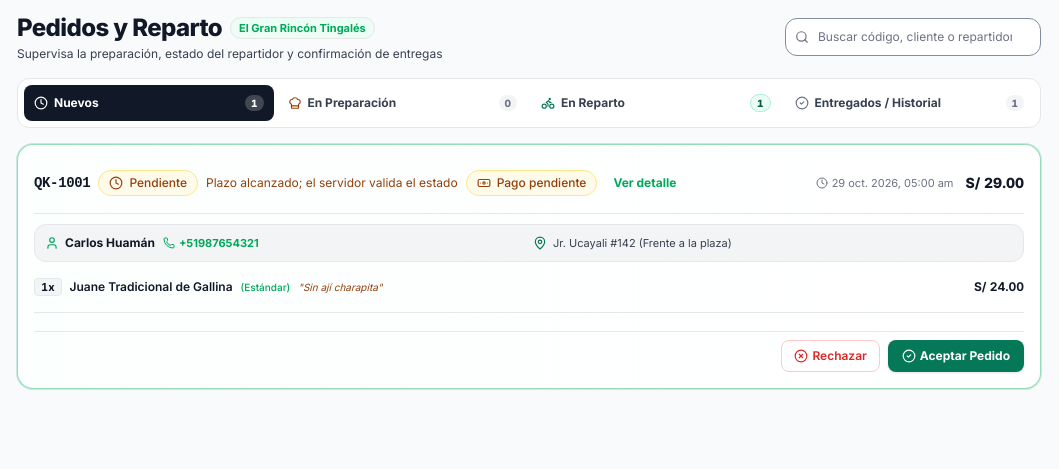
Test case: Bloque 5 UI Verification: Merchant Dashboard, Orders and Reports › MerchantOrdersPage › maneja conflicto 409 mostrando mensaje de error sin avanzar fraudulentamente
Expected: the text "QK-1001" is shown, [34,173,90,193]
// Click Aceptar Pedido
What coordinates should you click on to do the following:
click the button "Aceptar Pedido"
I would click on:
 (956, 356)
Its box is [888,340,1024,372].
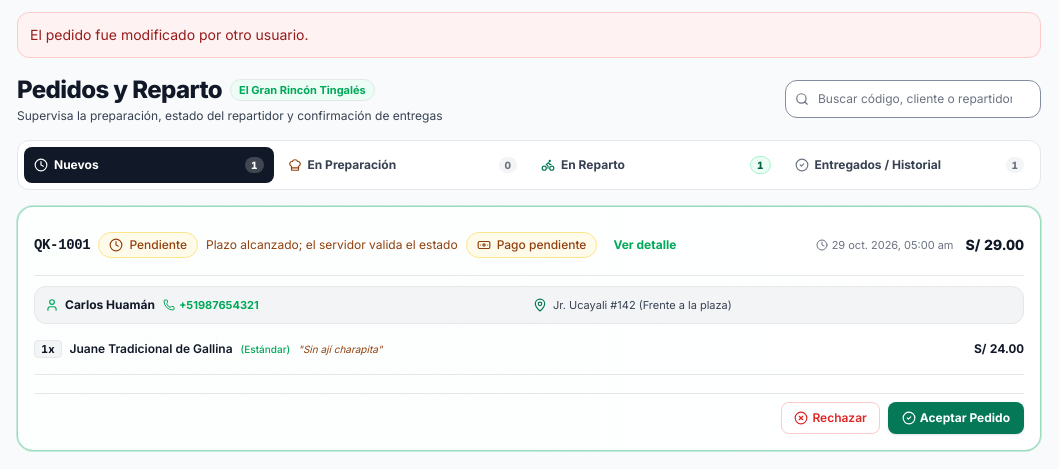
Expected: the text "El pedido fue modificado por otro usuario." is shown, [17,12,1041,58]
